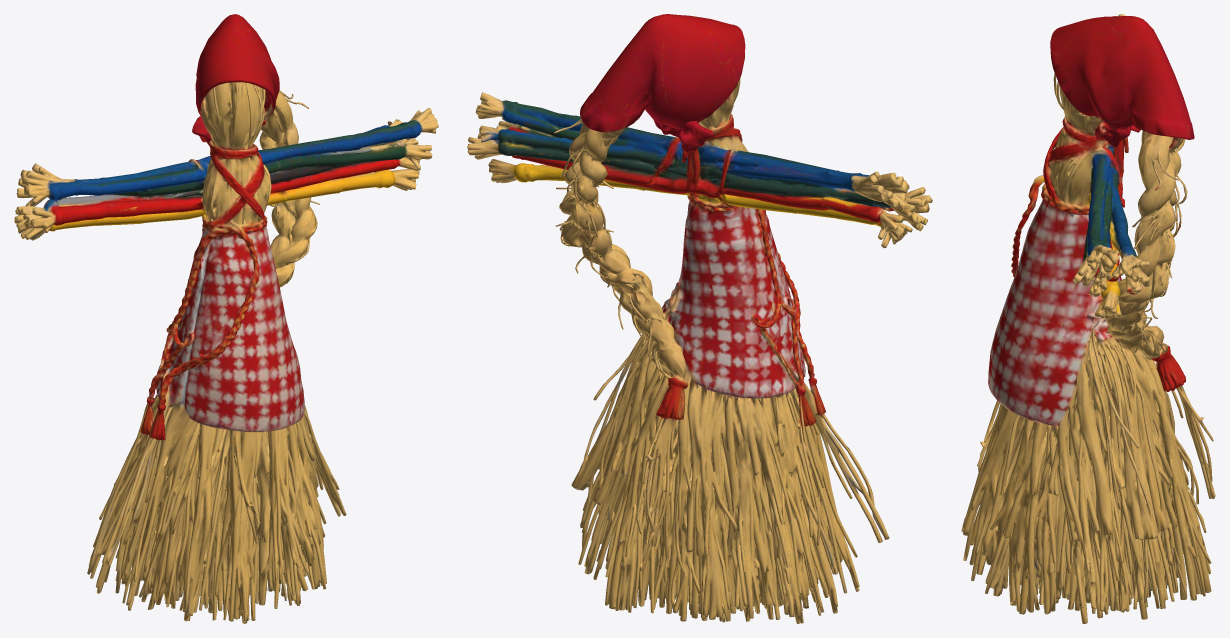
The model's file is belaya-many-hands-v2.glb.
The picture shows the model from 3 angles, left to right: view 1: azimuth 30°, elevation 25°; view 2: azimuth 150°, elevation 25°; view 3: azimuth 270°, elevation 25°; orthographic projection. The views are drawn at different scales.
Parts seen in each view (by area): view 1: Doll — 10 cm; view 2: Doll — 10 cm; view 3: Doll — 10 cm.
Part boxes in pixels (bbox=[...]): Doll — 10 cm: bbox=[14, 14, 438, 623]; Doll — 10 cm: bbox=[467, 14, 932, 623]; Doll — 10 cm: bbox=[961, 14, 1215, 623].
Bounding box in the file's own units: 0.0797 × 0.1 × 0.0394.
1 material, 1 textured.
